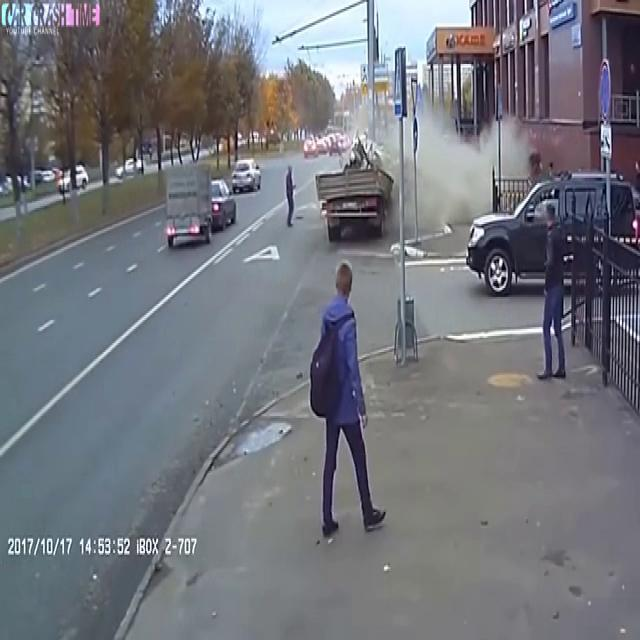accident: (314, 130, 470, 246)
non-accident: (163, 157, 261, 249), (303, 128, 353, 160)
